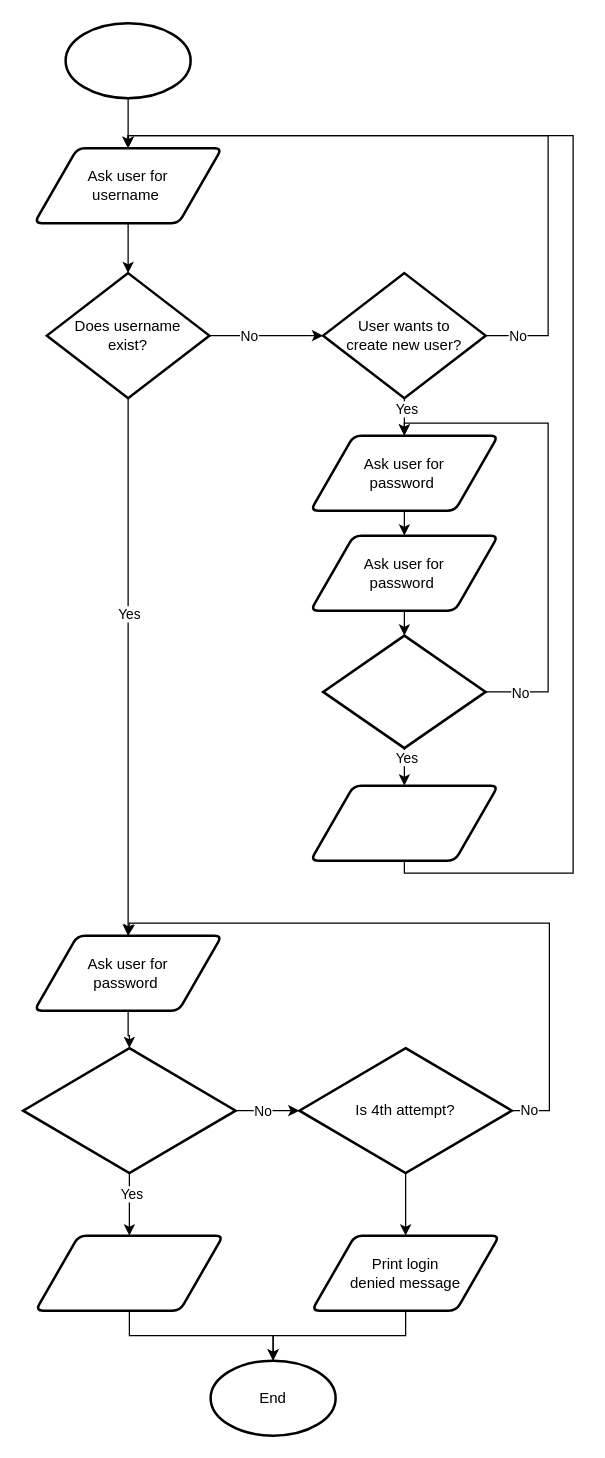
The diagram is 605 pixels wide and 1458 high, and some of its shapes have lost their labels. Each missing label, with the centre of its shape:
Do passwords match?: the point at 403,691
Print welcome message: the point at 129,1272
Save user in users list: the point at 404,822
Start: the point at 127,60
Username & password are matching?: the point at 128,1110
